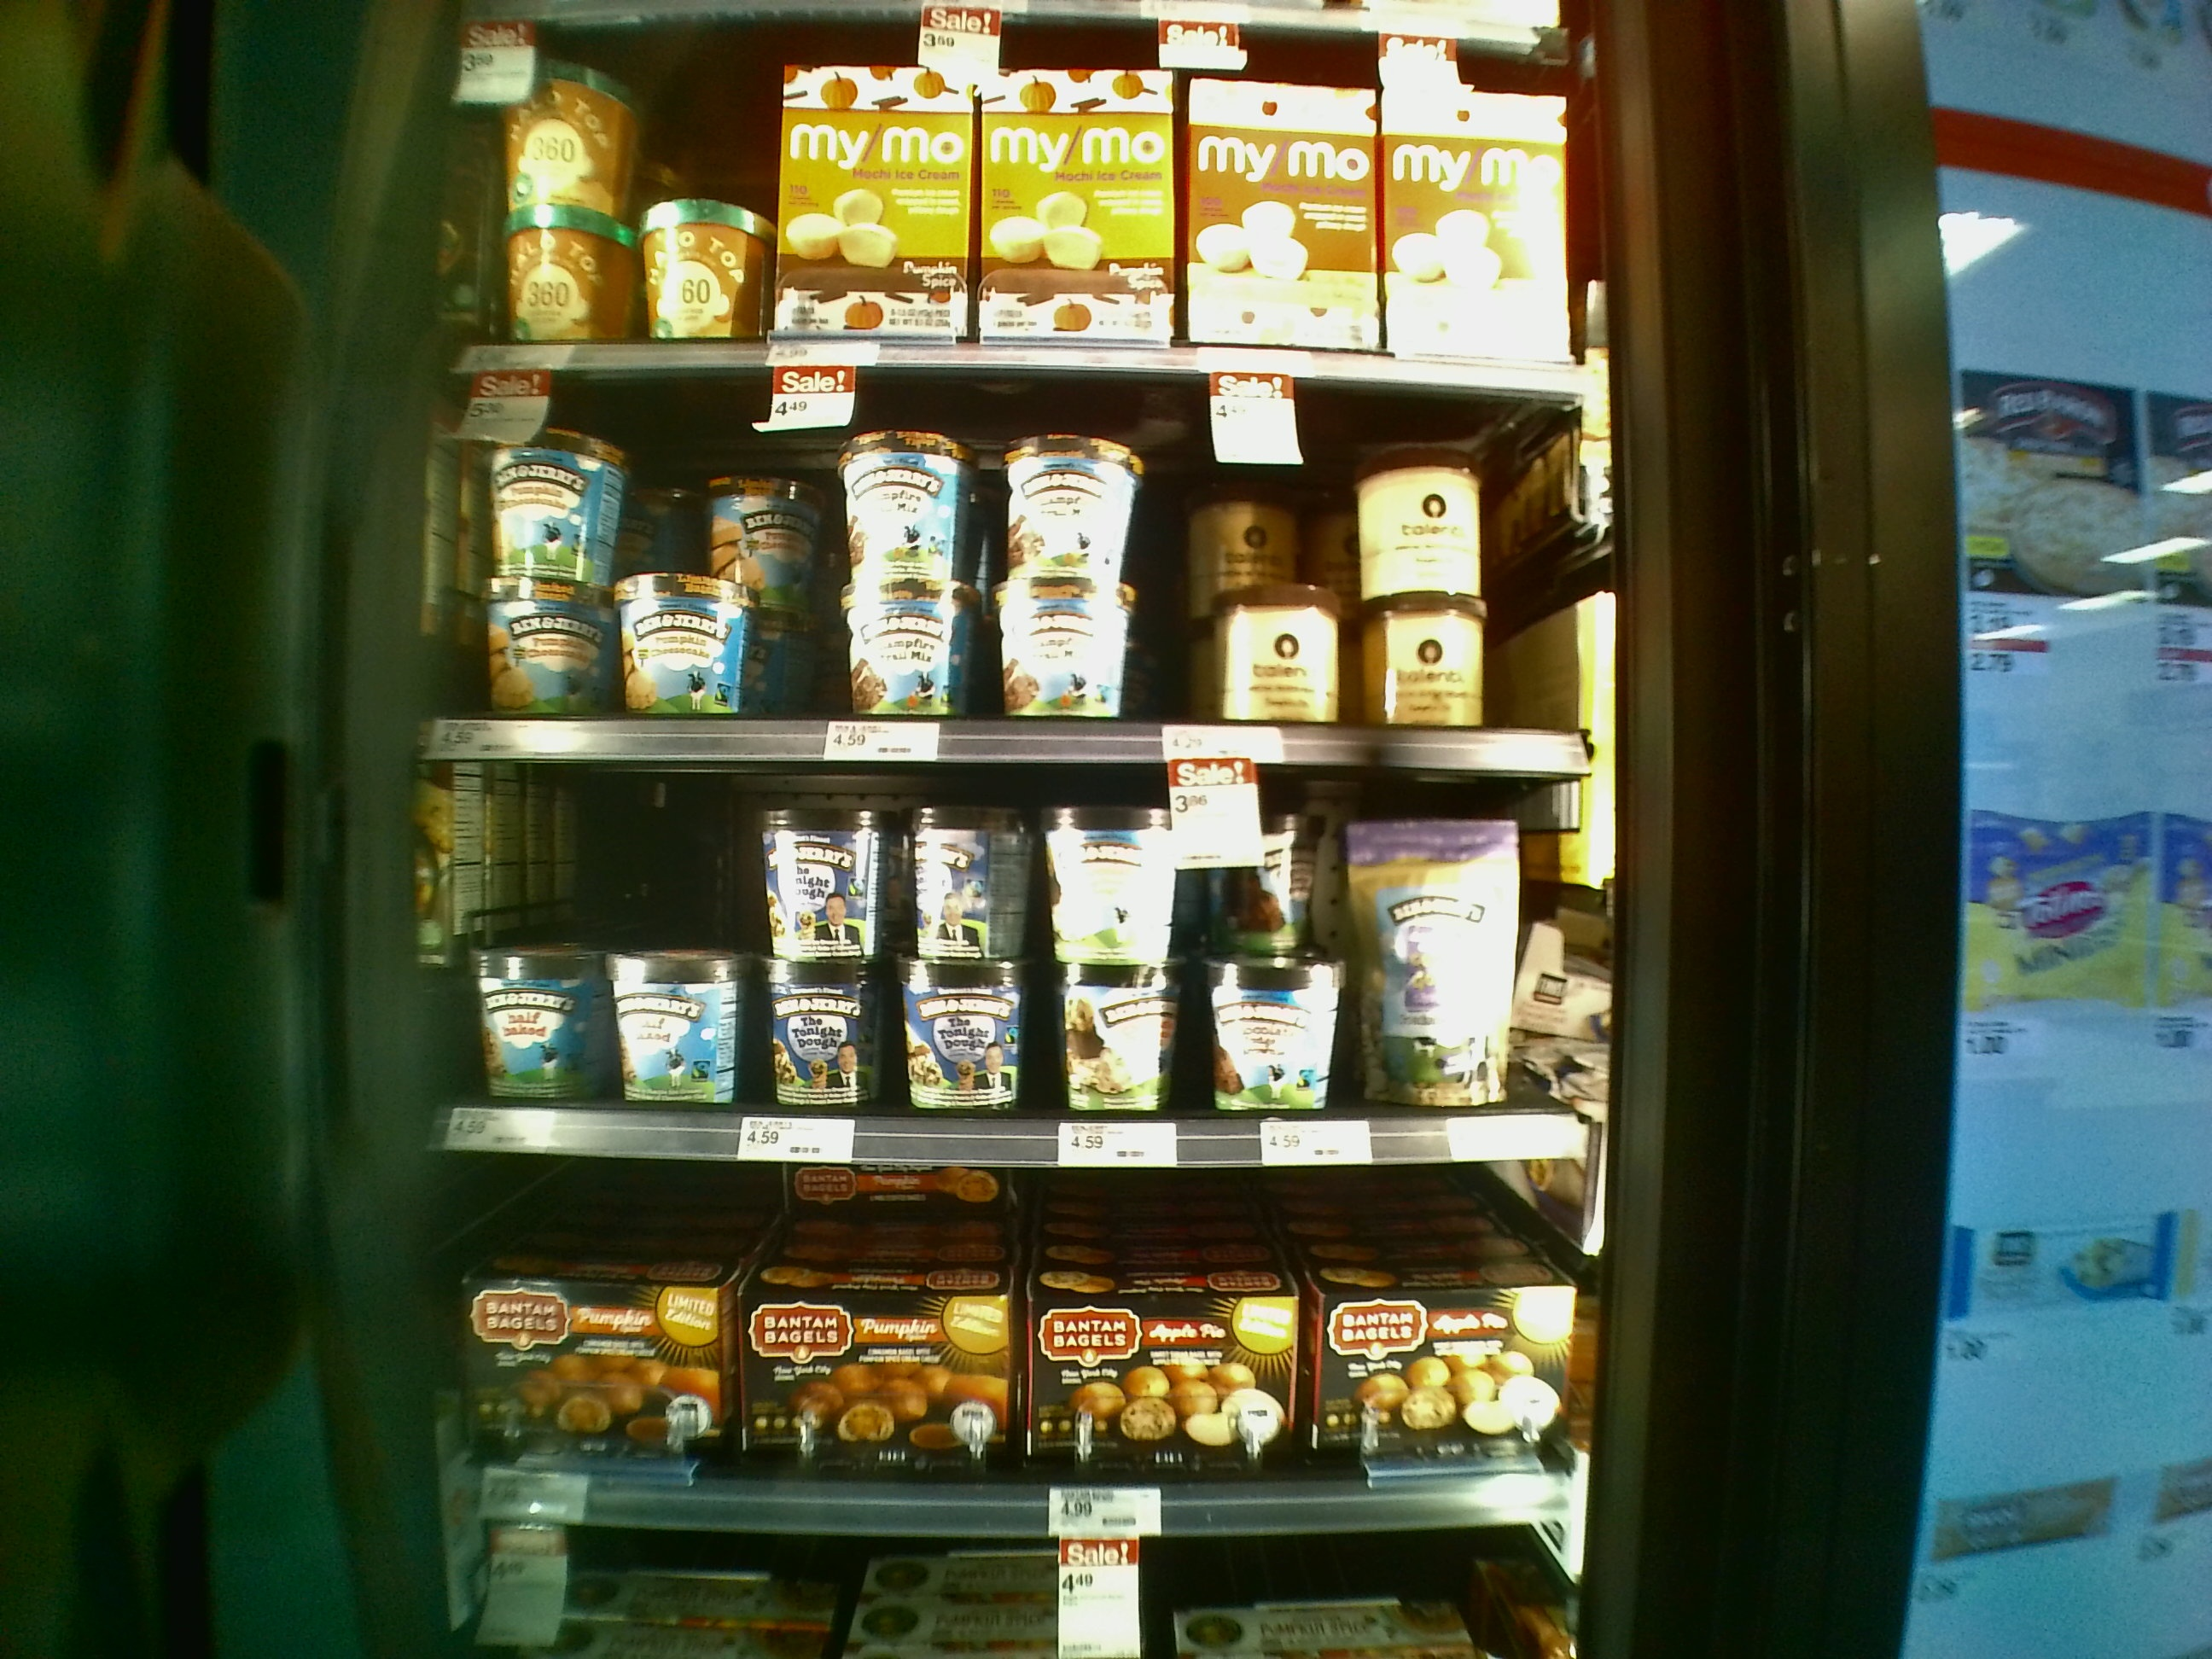shelf: (404, 711, 1616, 1175), (415, 1100, 1597, 1528), (425, 336, 1597, 765)
